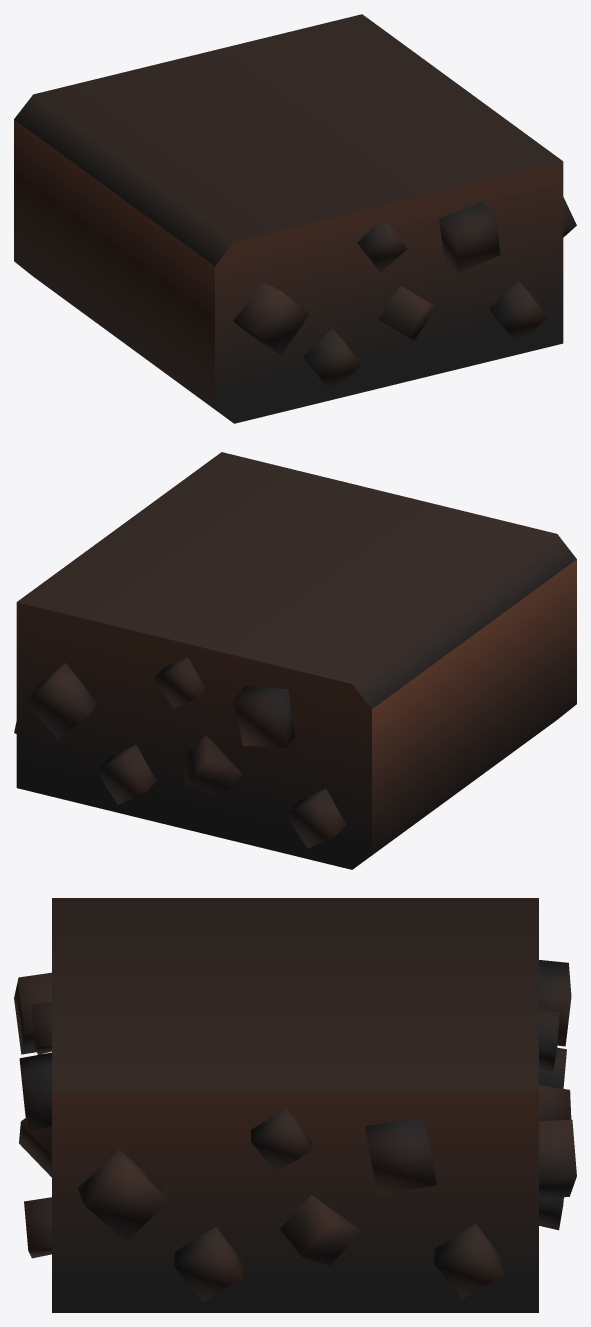
The model's file is m_Brownie02_Slice02.fbx.
3 views of the same model, one above another, from view 1: azimuth 30°, elevation 25°; view 2: azimuth 150°, elevation 25°; view 3: azimuth 270°, elevation 25° (orthographic). The views are drawn at different scales.
Parts seen in each view (by area): view 1: m_Brownie02_Slice02; view 2: m_Brownie02_Slice02; view 3: m_Brownie02_Slice02.
Boxes of the visible parts, <box> form: m_Brownie02_Slice02: <box>14,14,576,423</box>; m_Brownie02_Slice02: <box>14,452,576,869</box>; m_Brownie02_Slice02: <box>14,898,576,1312</box>.
Size of the model in its own units: 10.78 by 5 by 11.57.
